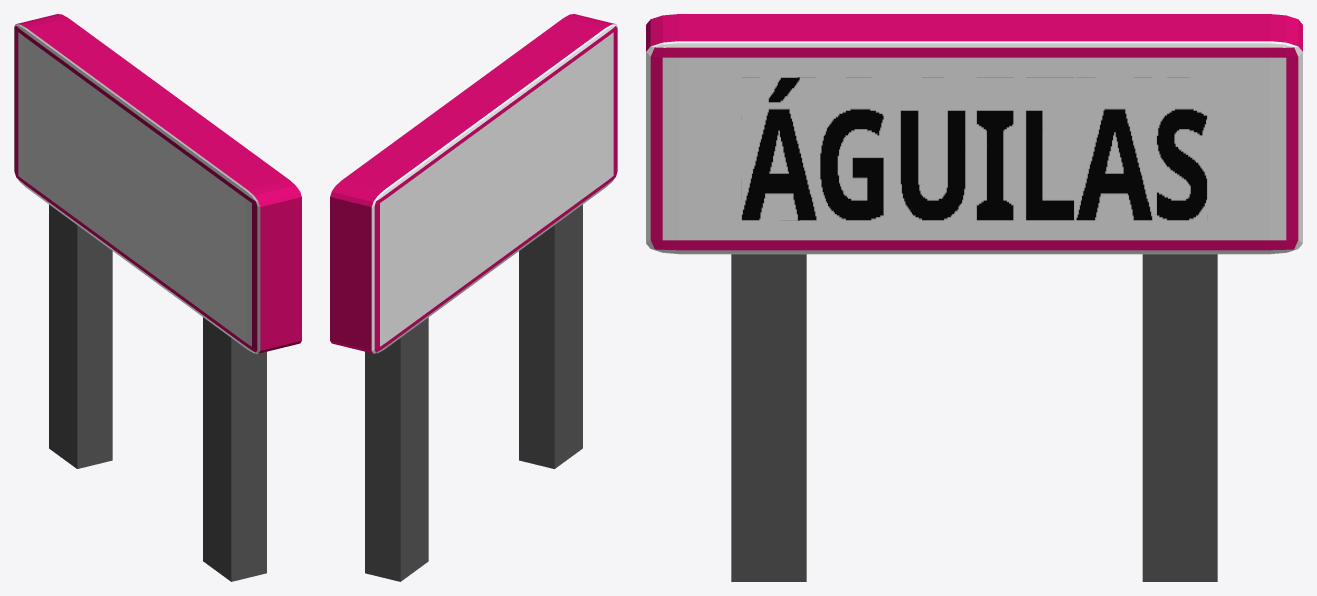
File: CartelAguilas 1.fbx
The picture shows the model from 3 angles, left to right: view 1: azimuth 30°, elevation 25°; view 2: azimuth 150°, elevation 25°; view 3: azimuth 270°, elevation 25°; orthographic projection. The views are drawn at different scales.
Visible parts, largest first — view 1: Cube; view 2: Cube; view 3: Cube.
Boxes of the visible parts, x1,y1,x2,y2 form: Cube: (14,14,301,581); Cube: (330,14,617,581); Cube: (646,14,1302,581).
Size of the model in its own units: 26.8 by 225 by 246.
